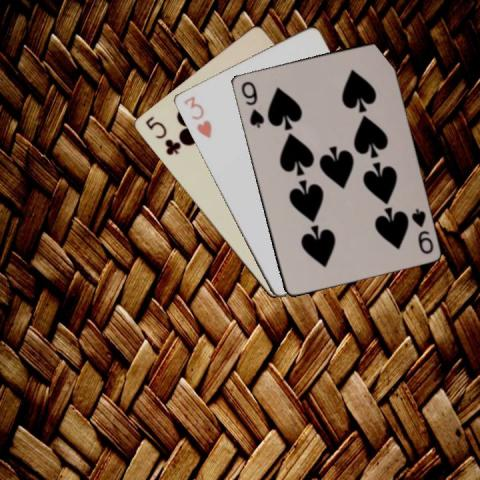3h: (180, 93, 212, 140)
5c: (142, 113, 181, 157)
9s: (238, 78, 265, 129), (408, 206, 435, 256)
